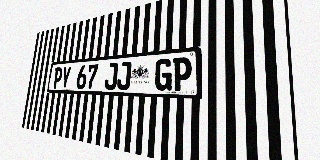6: (76, 65, 88, 89)
7: (86, 64, 98, 89)
G: (154, 58, 173, 91)
J: (116, 61, 132, 90), (104, 62, 118, 90)
P: (172, 57, 192, 91), (52, 67, 63, 89)
Y: (60, 66, 71, 89)
